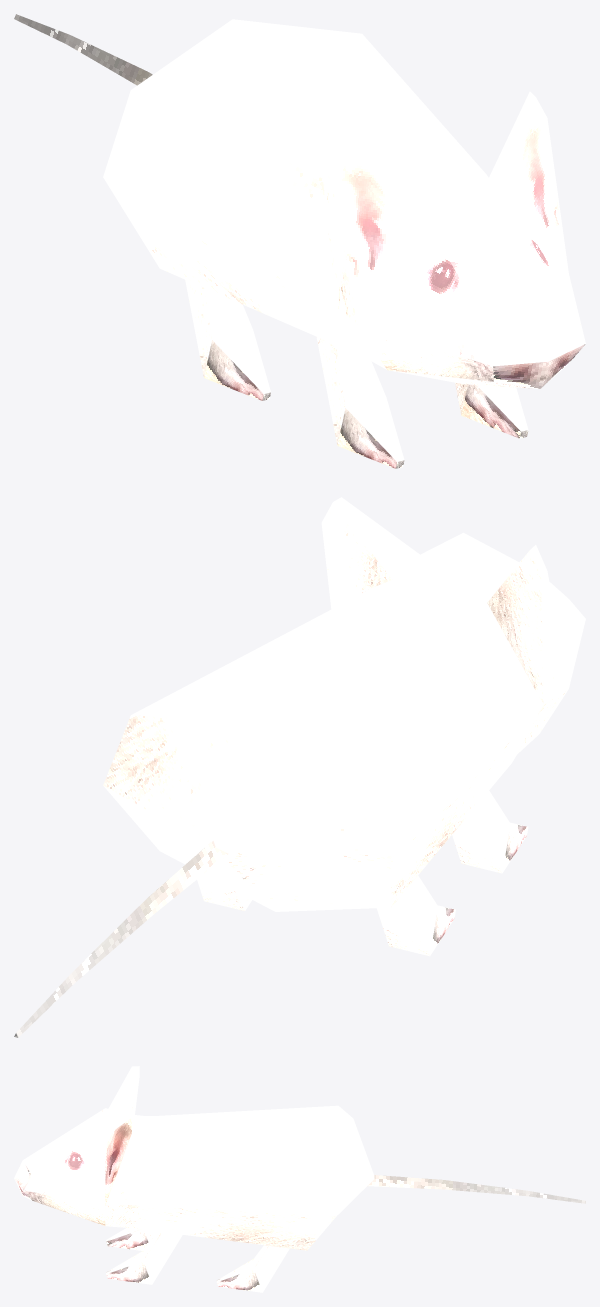
Rendered from mousey_model.glb.
3 views of the same model, one above another, from view 1: azimuth 30°, elevation 25°; view 2: azimuth 150°, elevation 25°; view 3: azimuth 270°, elevation 25° (orthographic). The views are drawn at different scales.
Visible parts, largest first — view 1: mousey_model; view 2: mousey_model; view 3: mousey_model.
Boxes of the visible parts, x1,y1,x2,y2 form: mousey_model: [14, 14, 585, 468]; mousey_model: [14, 497, 585, 1037]; mousey_model: [14, 1066, 585, 1292].
Bounding box in the file's own units: 1.74 × 1.83 × 5.53.
